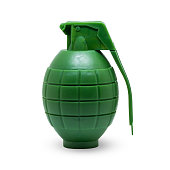e1: (41, 19, 135, 149)
